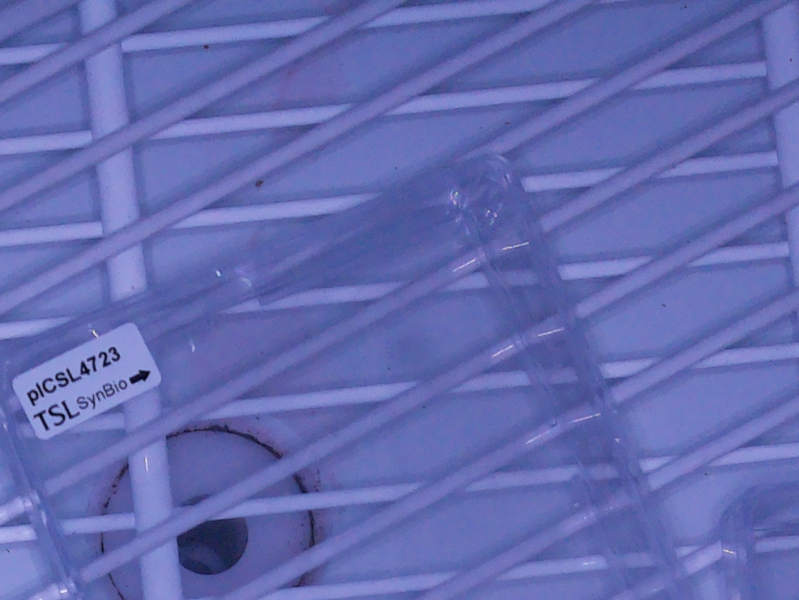plate: (1, 148, 702, 600), (717, 479, 799, 600)
